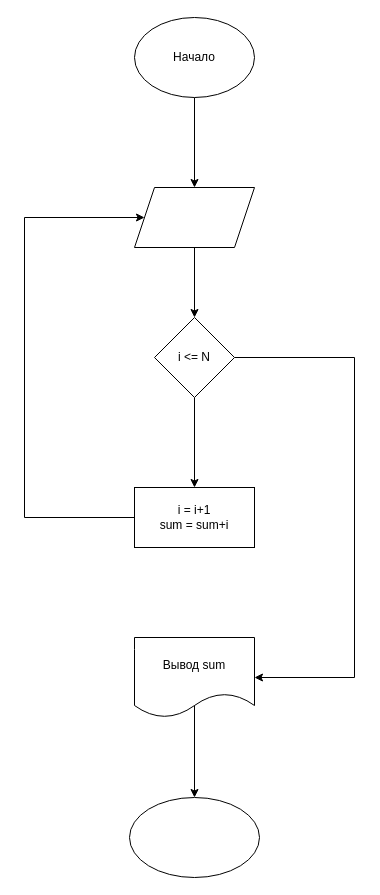
This 380x895 diagram has some shape labels left out. The shapes that lost their labels are listed below. From the top down, each one's centre as x and y in pixels, then its label:
At point 194,217: "i = 1 sum = 0".
At point 194,837: "Конец".
